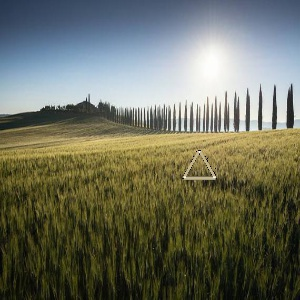triangle: (179, 147, 219, 182)
